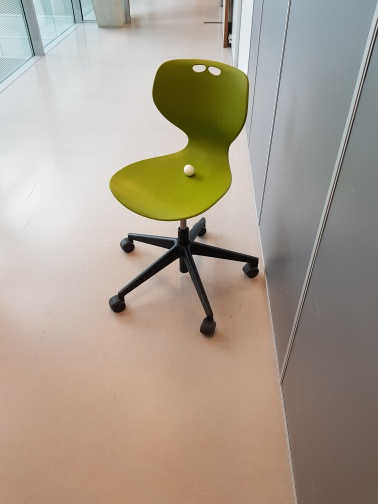egg: (180, 162, 198, 178)
